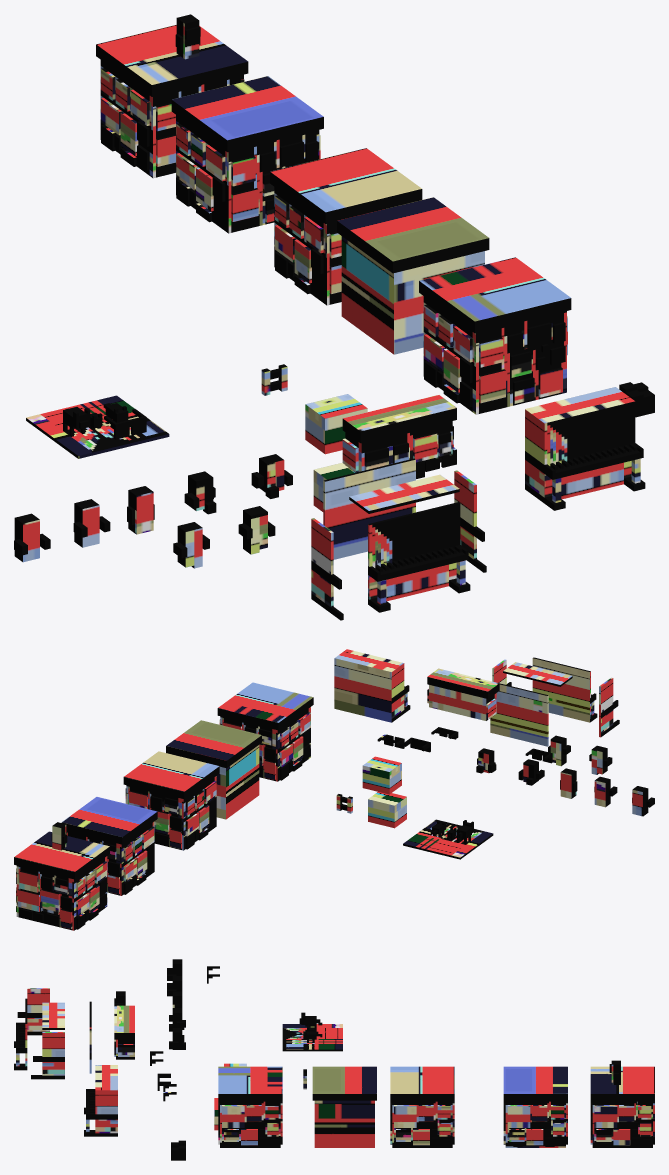
Rendered from ld32_art.dae.
3 views of the same model, one above another, from view 1: azimuth 30°, elevation 25°; view 2: azimuth 150°, elevation 25°; view 3: azimuth 270°, elevation 25° (orthographic). The views are drawn at different scales.
Visible parts, largest first — view 1: Box_4, Box_6, Box_5, Box_7, Box_8, Box, _4, _9, _5, Compound, Box_3, _8 (+10 smaller); view 2: Box_7, Box_8, Box_4, Box_6, Box_5, Box, _5, _9, _4, Compound, Box_3, Box_10 (+9 smaller); view 3: Box_4, Box_8, Box_6, Box_5, Box_7, Box, Compound, _6, _9, _7, _8, _4.
Part boxes in pixels (x1,y1,x2,y2): Box_4: (419, 257, 571, 414); Box_6: (171, 76, 323, 233); Box_5: (337, 197, 489, 354); Box_7: (96, 25, 248, 178); Box_8: (270, 148, 422, 305); Box: (525, 387, 645, 510); _4: (368, 502, 470, 612); _9: (342, 395, 456, 472); _5: (323, 458, 415, 559); Compound: (26, 395, 169, 458); Box_3: (305, 394, 367, 454); _8: (349, 474, 459, 513); Box_7: (14, 831, 109, 930); Box_8: (123, 751, 219, 850); Box_4: (217, 682, 313, 781); Box_6: (61, 797, 157, 895); Box_5: (166, 720, 261, 819); Box: (334, 649, 410, 722); _5: (490, 683, 548, 746); _9: (427, 668, 499, 720); _4: (532, 657, 597, 722); Compound: (403, 819, 493, 859); Box_3: (362, 756, 401, 794); Box_10: (368, 792, 406, 828); Box_4: (218, 1066, 282, 1147); Box_8: (390, 1066, 454, 1147); Box_6: (503, 1066, 567, 1147); Box_5: (312, 1066, 376, 1147); Box_7: (590, 1066, 654, 1147); Box: (84, 1065, 117, 1136); Compound: (282, 1012, 342, 1051); _6: (31, 1032, 64, 1079); _9: (114, 1005, 134, 1059); _7: (17, 988, 49, 1035); _8: (42, 1002, 64, 1029); _4: (14, 998, 27, 1070).
Size of the model in its own units: 224 by 66 by 339.
1 material, 1 textured.
